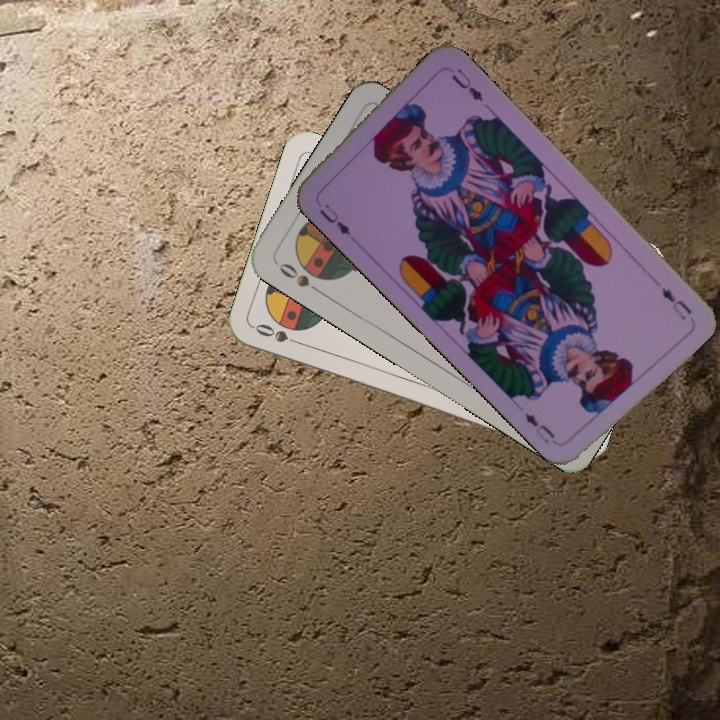EU: (657, 283, 695, 322), (315, 200, 353, 238)
SO: (272, 258, 324, 296), (251, 319, 308, 349)
